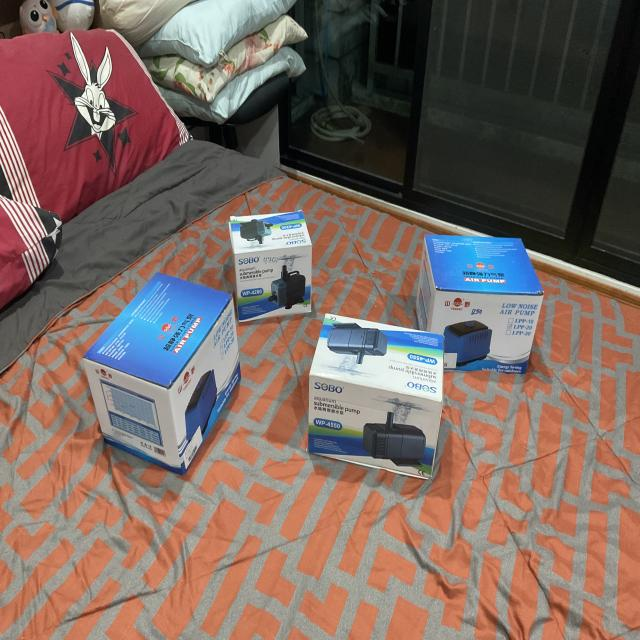SOBO_WP_4200: (307, 300, 456, 500), (226, 202, 324, 328)
YAMANO_LPP_20: (84, 259, 252, 483), (406, 216, 552, 372)
